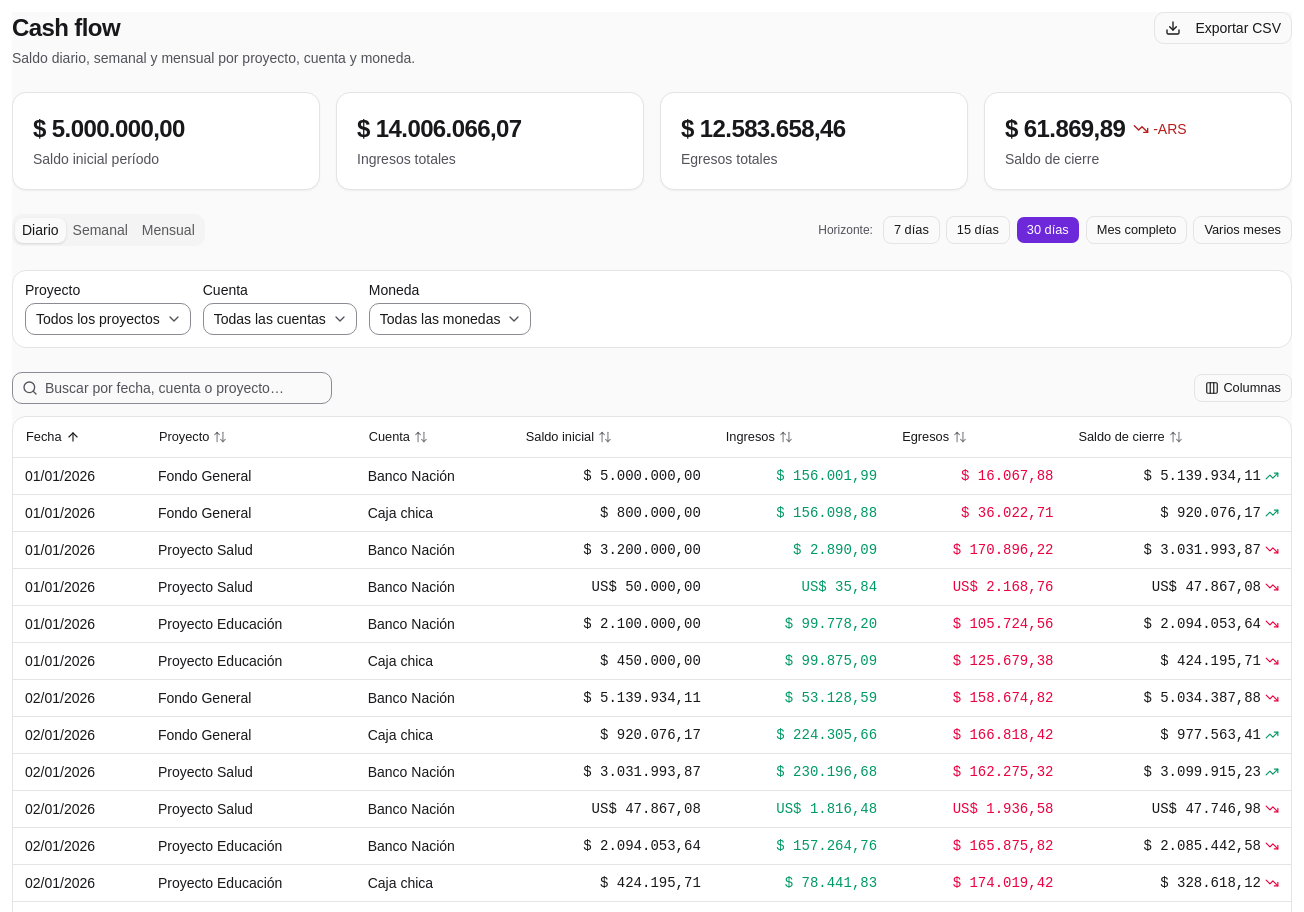
it: CashFlowPage › filtra por proyecto y permite limpiar
// Abre el combobox de Proyecto
Click the dropdown labelled "proyecto".
click(108, 319)  # box x1=25 y1=303 x2=191 y2=335
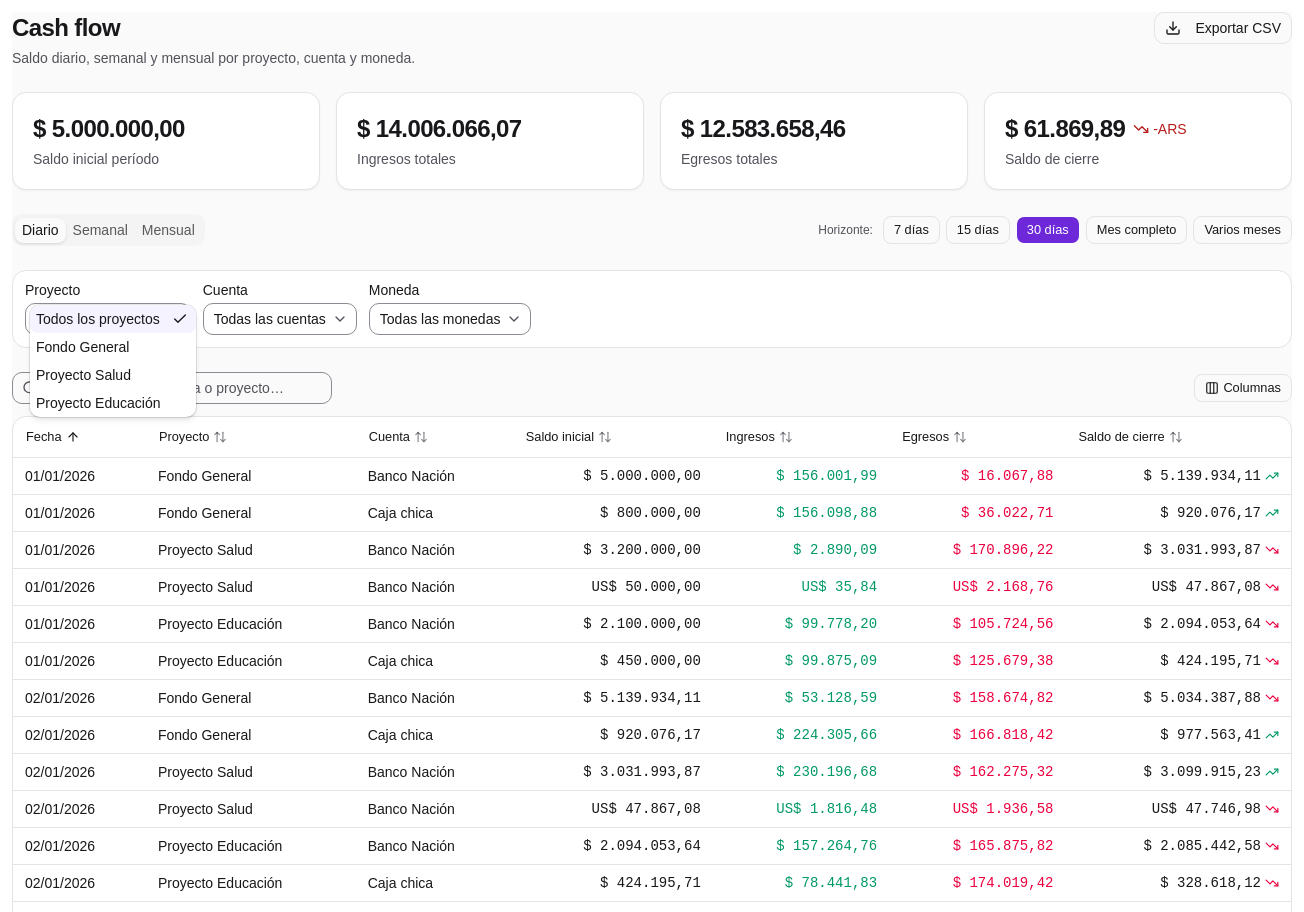
Click the option "Proyecto Salud".
click(84, 375)  # box x1=36 y1=367 x2=131 y2=383
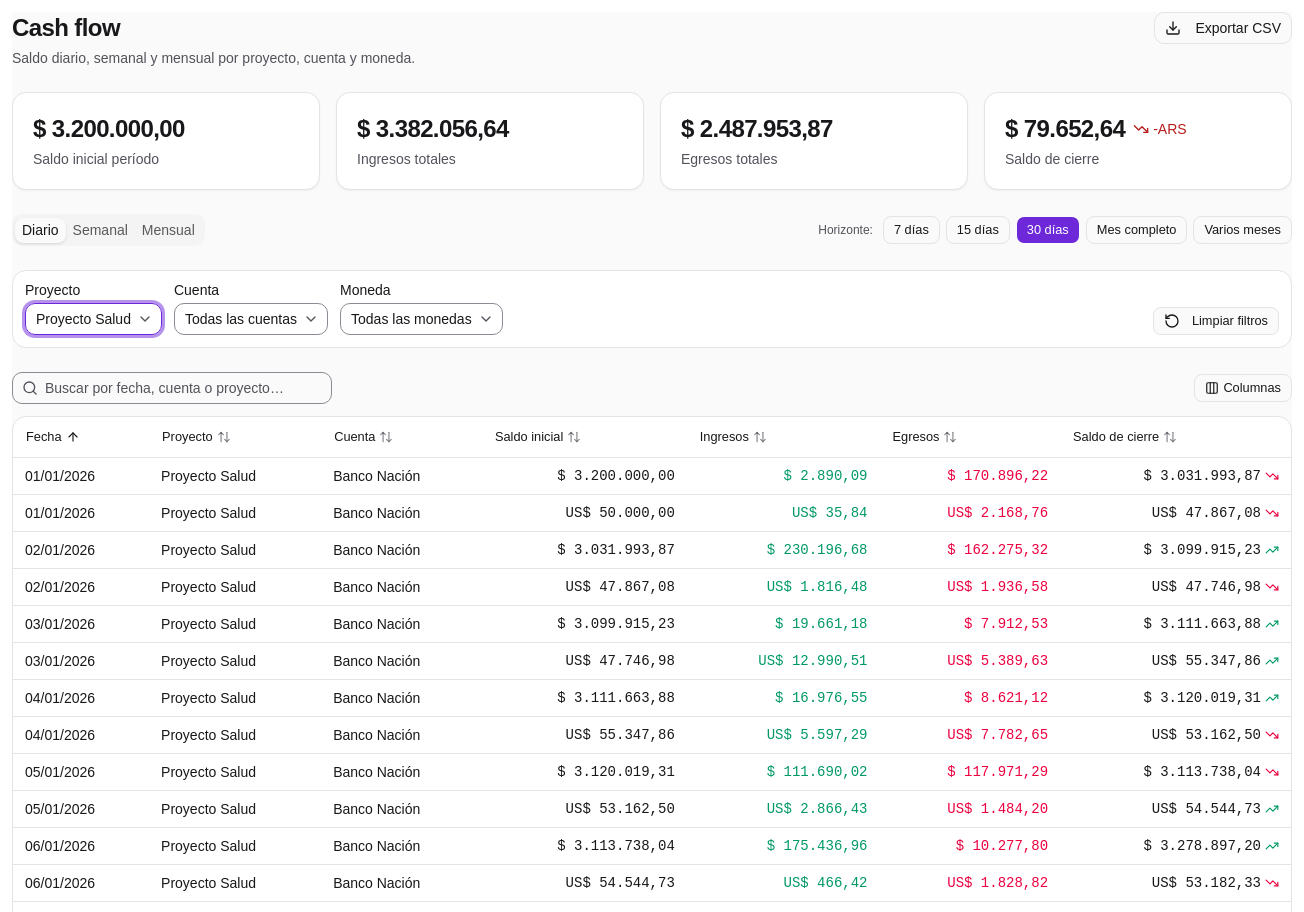
Check: the button "Limpiar filtros" is shown
Click the button "Limpiar filtros".
click(1216, 321)  # box x1=1153 y1=307 x2=1279 y2=335
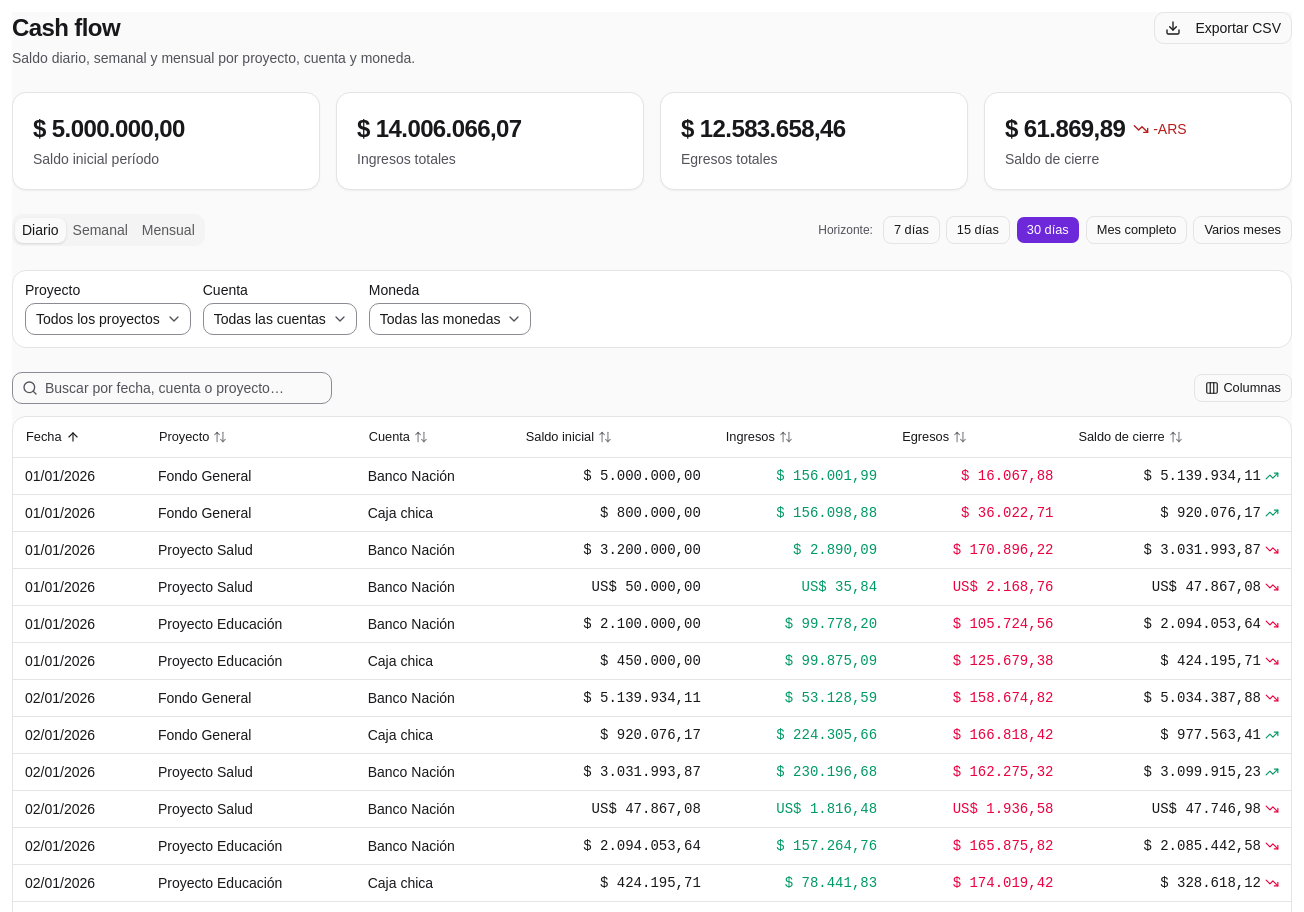
Check: the button "Limpiar filtros" is gone
